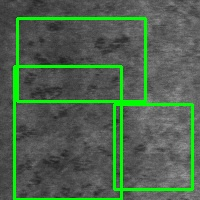rolled-in_scale: (14, 66, 121, 199), (17, 18, 145, 101), (114, 104, 192, 189)
